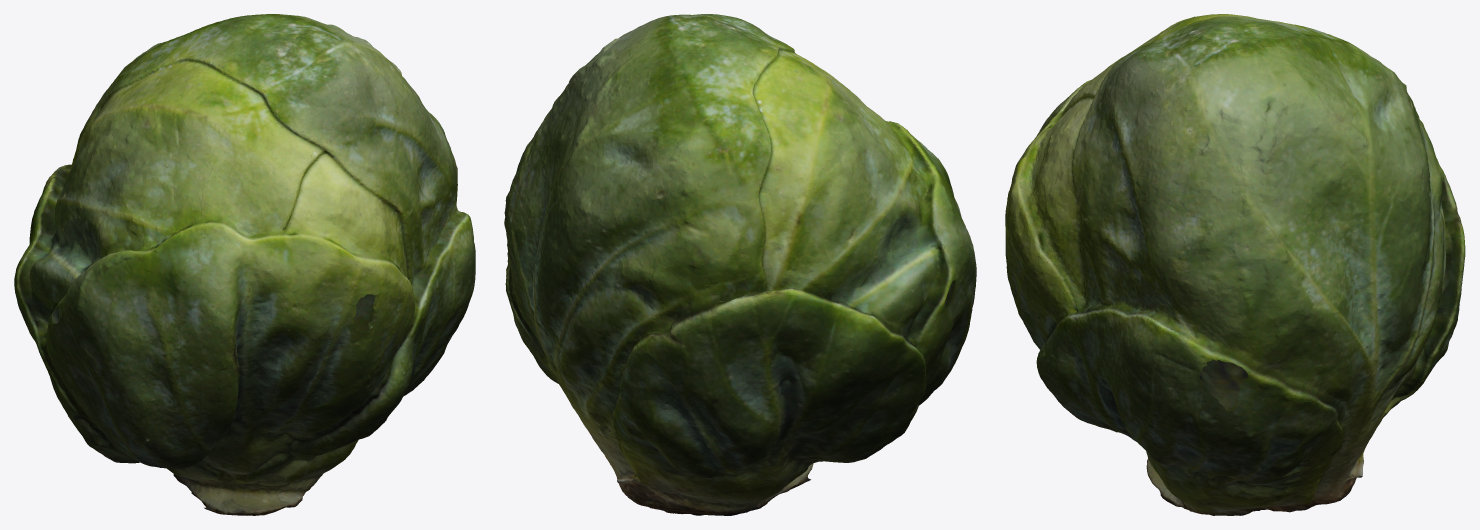
The model's file is BrusselSprout.fbx.
3 renders of one model, left to right at view 1: azimuth 30°, elevation 25°; view 2: azimuth 150°, elevation 25°; view 3: azimuth 270°, elevation 25°, orthographic. The views are drawn at different scales.
Parts seen in each view (by area): view 1: MeshTransform; view 2: MeshTransform; view 3: MeshTransform.
Boxes of the visible parts, x1,y1,x2,y2 form: MeshTransform: (14, 14, 475, 515); MeshTransform: (504, 14, 976, 515); MeshTransform: (1005, 14, 1465, 515).
Bounding box in the file's own units: 20.63 × 21.47 × 18.84.
